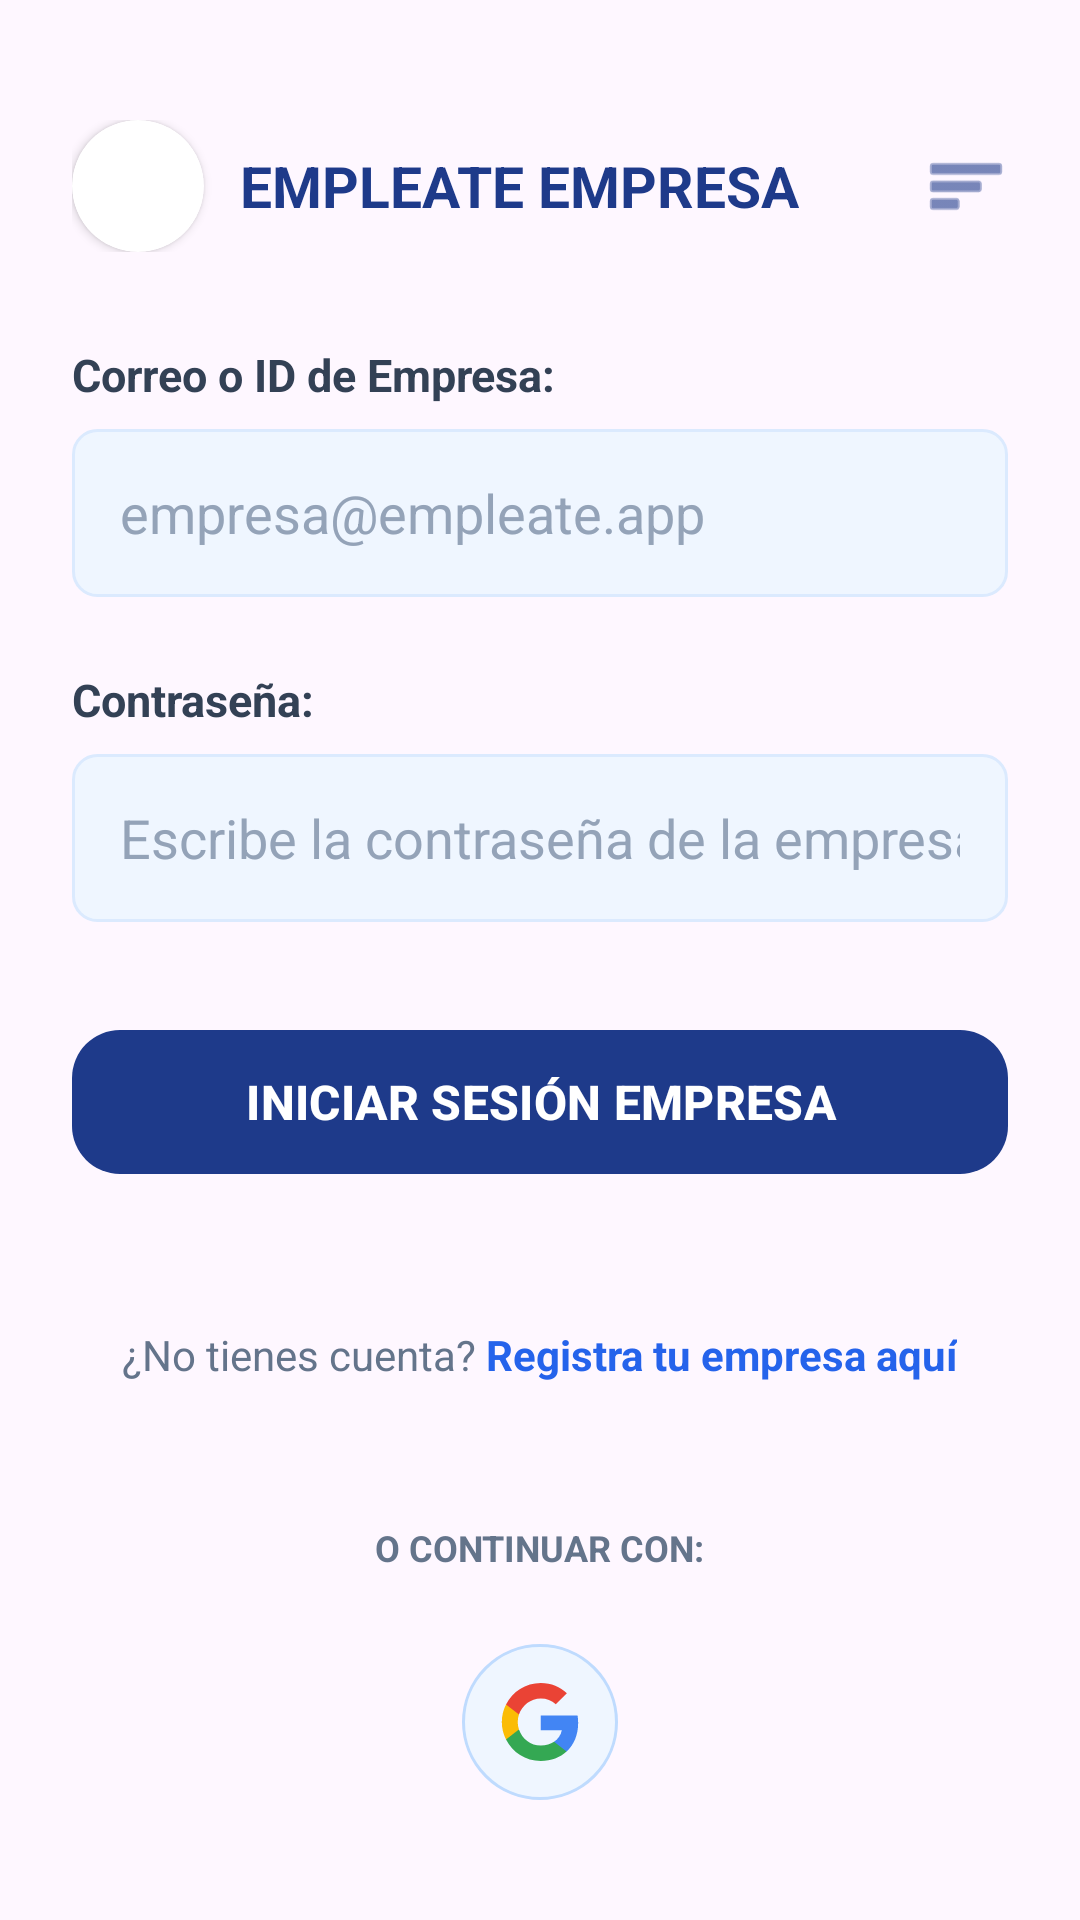

Point at icon controls on the screen. Image size 1080 x 1920, points as (x,y).
Menú: (966,186)
